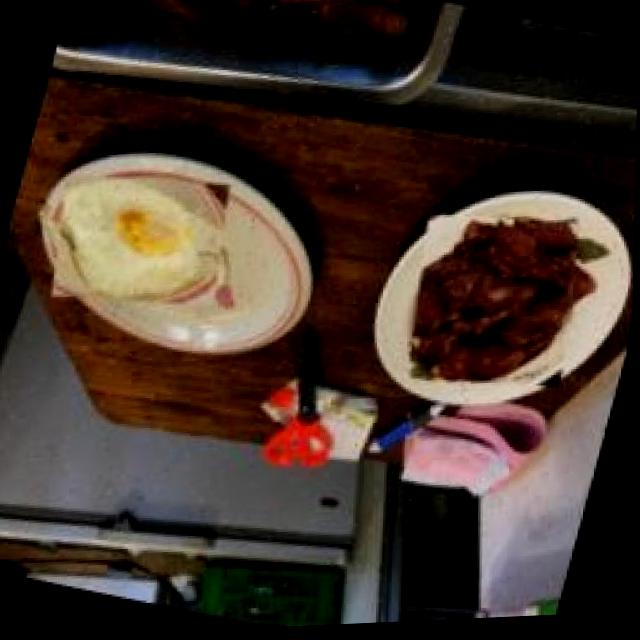chinese_sausage: (387, 192, 606, 422)
fried_eggs: (37, 149, 250, 339)
